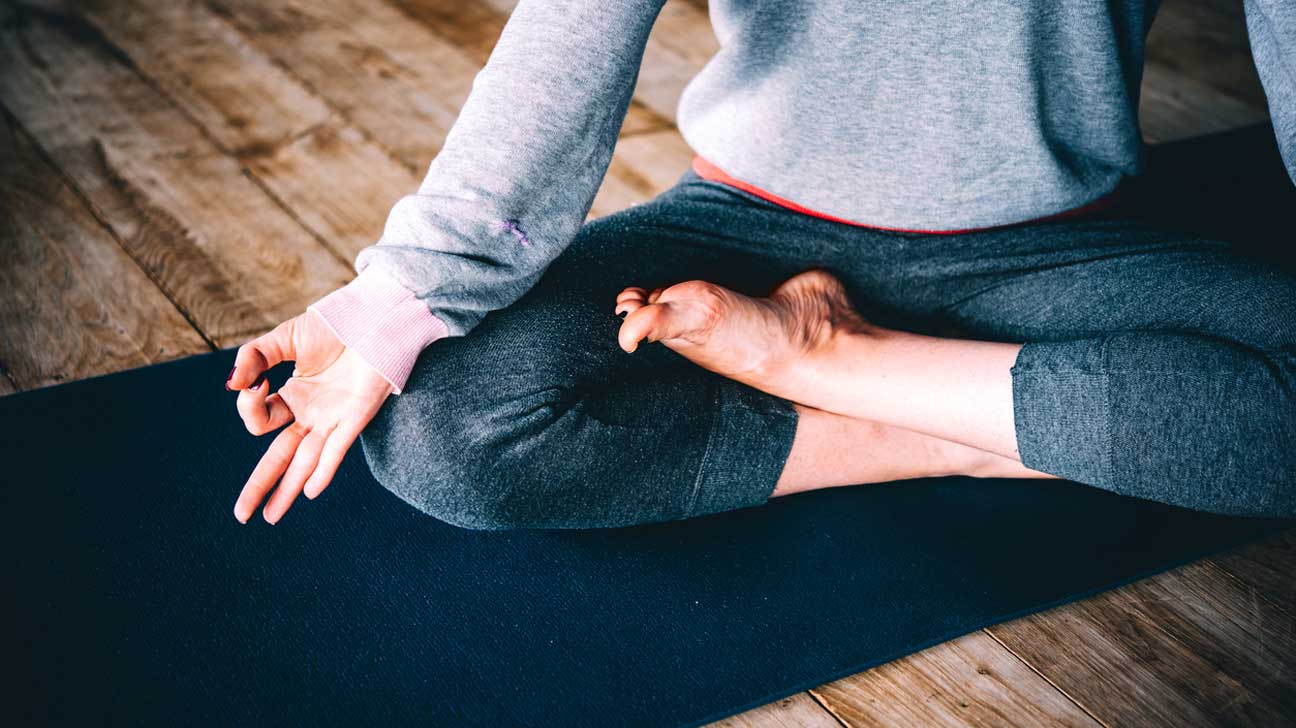finger: (226, 424, 301, 531), (259, 433, 322, 533), (303, 426, 350, 517), (234, 370, 289, 437)
